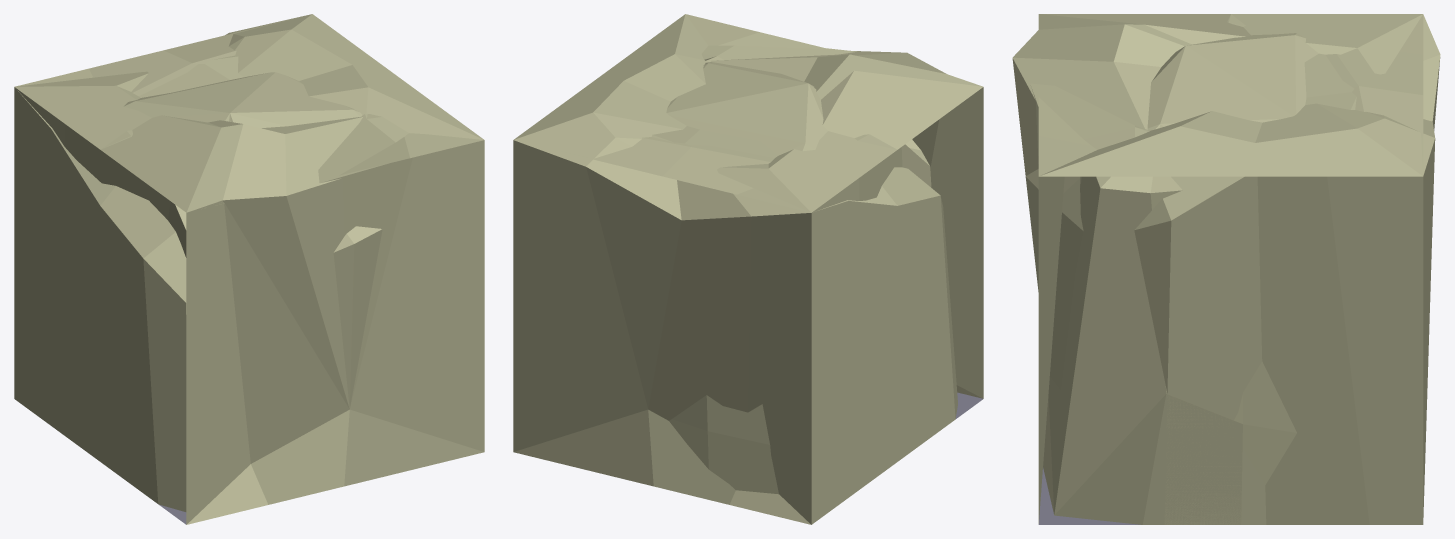
File: blocks.fbx
The picture shows the model from 3 angles, left to right: view 1: azimuth 30°, elevation 25°; view 2: azimuth 150°, elevation 25°; view 3: azimuth 270°, elevation 25°; orthographic projection. The views are drawn at different scales.
Visible parts, largest first — view 1: BlockJut, BlockRow, BlockFront, BlockSingle, BlockCap, BlockCorner; view 2: BlockRow, BlockJut, BlockSingle, BlockCap, BlockCorner, BlockFront; view 3: BlockJut, BlockSingle, BlockRow, BlockCap, BlockFront, BlockTile.
Part boxes in pixels (x1,y1,x2,y2): BlockJut: [14, 18, 382, 511]; BlockRow: [14, 14, 484, 524]; BlockFront: [186, 114, 484, 463]; BlockSingle: [124, 72, 362, 128]; BlockCap: [101, 55, 483, 175]; BlockCorner: [15, 87, 186, 257]; BlockRow: [513, 14, 983, 524]; BlockJut: [519, 56, 957, 524]; BlockSingle: [666, 62, 827, 494]; BlockCap: [651, 14, 896, 157]; BlockCorner: [812, 139, 931, 212]; BlockFront: [701, 45, 856, 59]; BlockJut: [1025, 14, 1423, 524]; BlockSingle: [1043, 33, 1318, 524]; BlockRow: [1012, 14, 1440, 523]; BlockCap: [1038, 14, 1356, 176]; BlockFront: [1030, 83, 1147, 163]; BlockTile: [1038, 468, 1140, 524].
Size of the model in its own units: 200 by 224 by 223.
